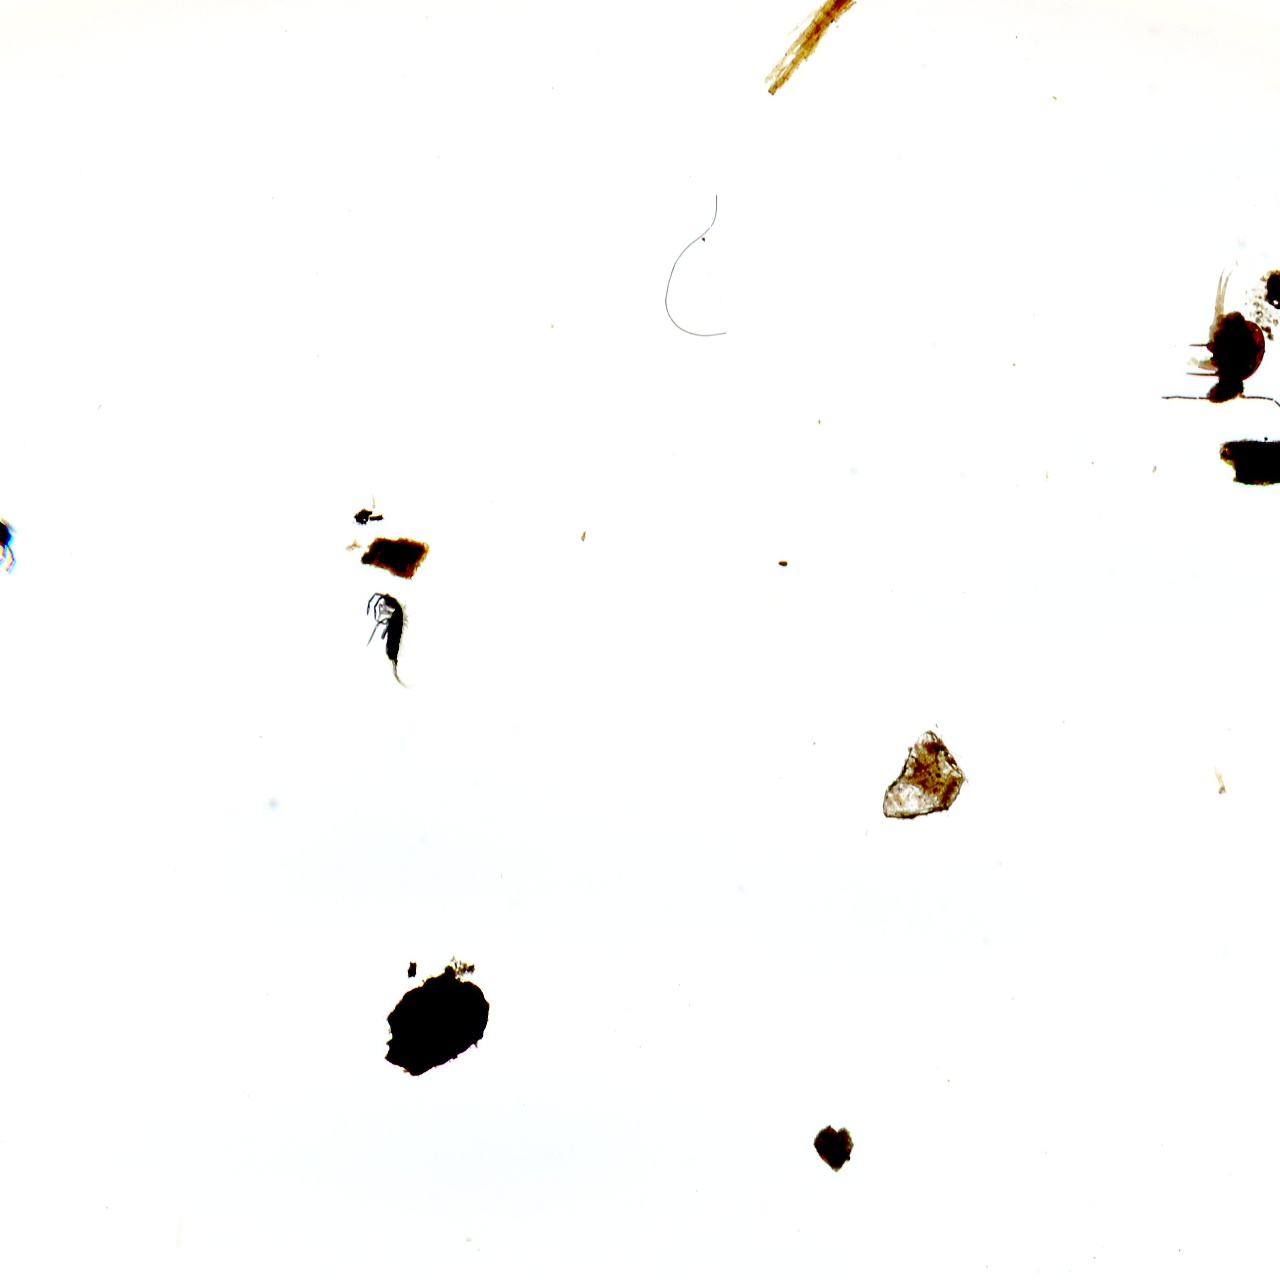arthropod: (1155, 265, 1280, 430), (361, 588, 417, 688), (0, 497, 34, 574)
